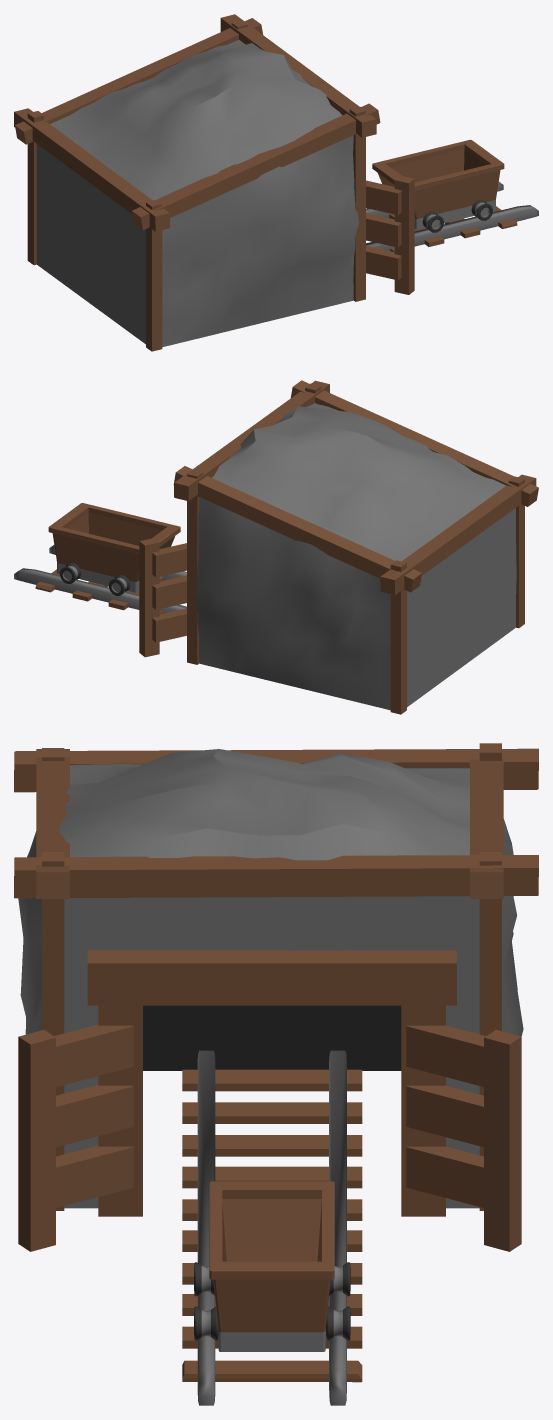
File: mine.fbx
The picture shows the model from 3 angles, top to bottom: view 1: azimuth 30°, elevation 25°; view 2: azimuth 150°, elevation 25°; view 3: azimuth 270°, elevation 25°; orthographic projection. The views are drawn at different scales.
Visible parts, largest first — view 1: Cube.003, Cube.005, Cube.015, Cube.010, Cube.004; view 2: Cube.003, Cube.005, Cube.015, Cube.009, Cube.004; view 3: Cube.003, Cube.005, Cube.016, Cube.004, Cube.015, Cube.010, Cube.009.
Boxes of the visible parts, x1,y1,x2,y2 form: Cube.003: (36,40,359,347); Cube.005: (14,14,380,351); Cube.015: (372,139,504,232); Cube.010: (366,175,414,294); Cube.004: (366,182,538,251); Cube.003: (195,403,516,710); Cube.005: (173,380,538,714); Cube.015: (48,503,180,595); Cube.009: (139,538,186,657); Cube.004: (14,545,186,614); Cube.003: (18,749,523,1208); Cube.005: (14,743,538,1210); Cube.016: (87,950,456,1216); Cube.004: (182,1050,362,1405); Cube.015: (194,1181,350,1351); Cube.010: (18,1024,133,1251); Cube.009: (406,1025,521,1251).
Size of the model in its own units: 424 by 183 by 235.
